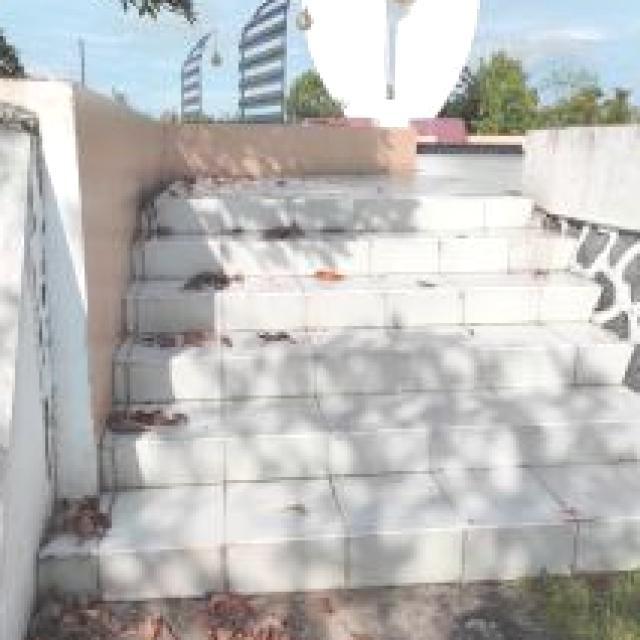upstair: (118, 164, 640, 635)
